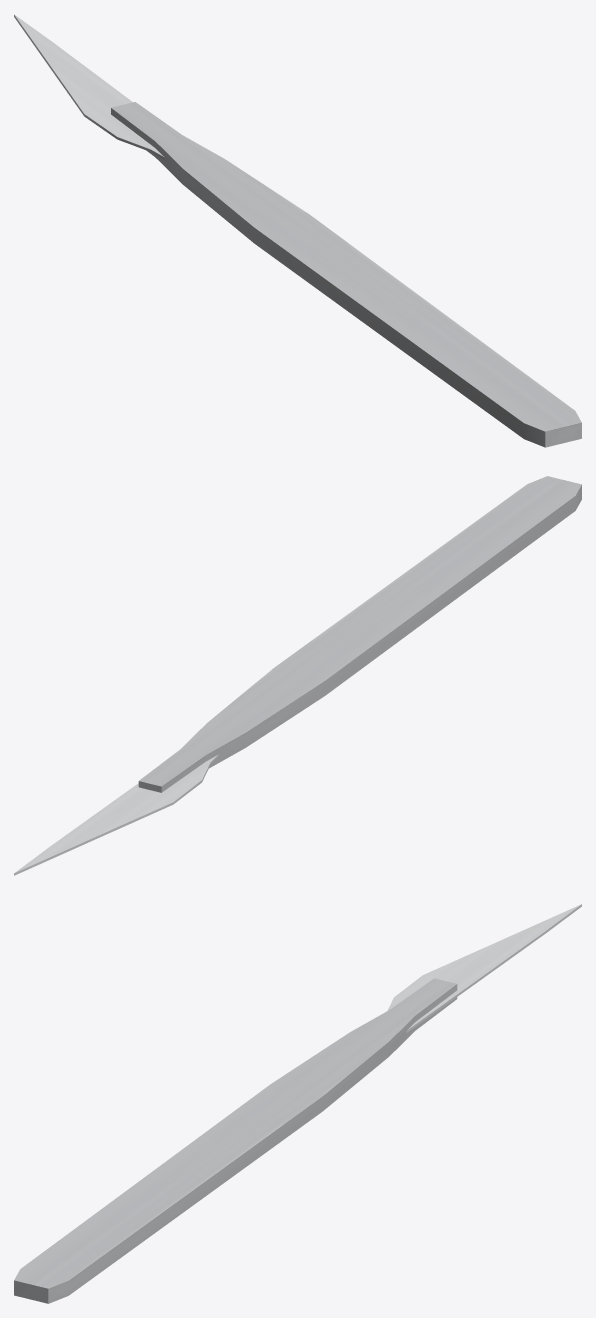
Rendered from s1b_scalpel_11.glb.
The picture shows the model from 3 angles, top to bottom: view 1: azimuth 30°, elevation 25°; view 2: azimuth 150°, elevation 25°; view 3: azimuth 330°, elevation 25°; orthographic projection. The views are drawn at different scales.
Visible parts, largest first — view 1: s1b_scalpel_11; view 2: s1b_scalpel_11; view 3: s1b_scalpel_11.
Boxes of the visible parts, bbox=[...] form: s1b_scalpel_11: bbox=[14, 14, 581, 447]; s1b_scalpel_11: bbox=[14, 476, 581, 875]; s1b_scalpel_11: bbox=[14, 904, 581, 1303].
Bounding box in the file's own units: 0.0097 × 0.0025 × 0.161.
1 material, 1 textured.
